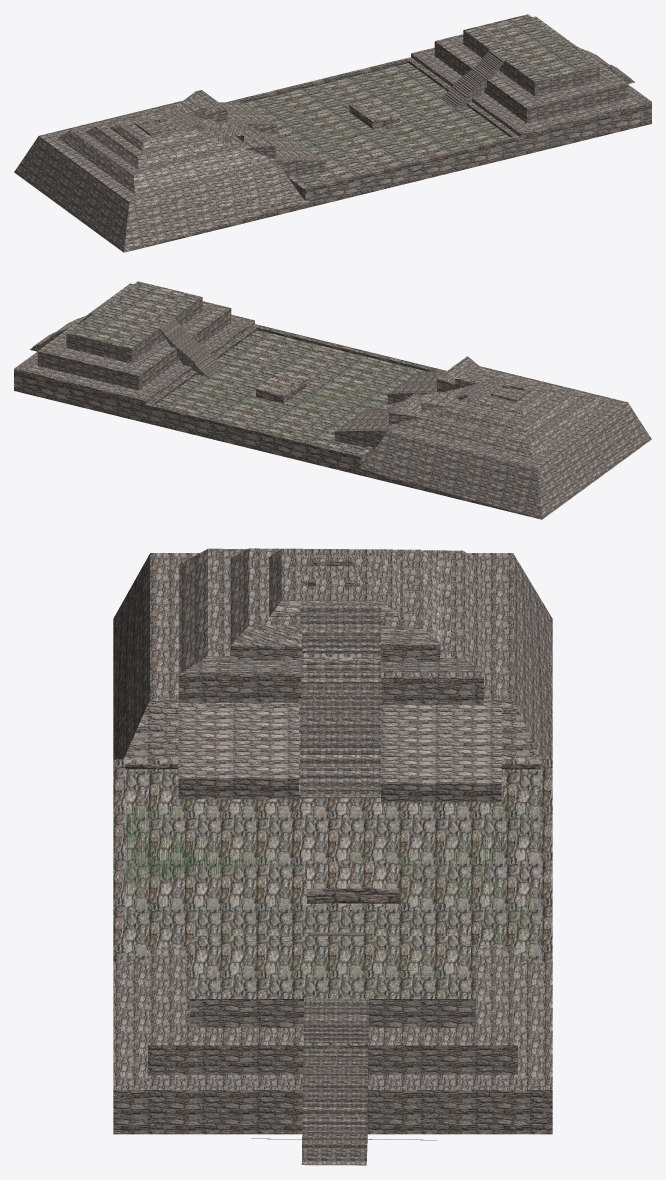
Rendered from piramide2.obj.
3 renders of one model, top to bottom at view 1: azimuth 30°, elevation 25°; view 2: azimuth 150°, elevation 25°; view 3: azimuth 270°, elevation 25°, orthographic. The views are drawn at different scales.
Parts seen in each view (by area): view 1: Mesh12 Group3 Group2 Group1 Model, Mesh5 Group11 Group10 Group9 Group3 Group2 Group1 Model, Mesh4 Group8 Group7 Group3 Group2 Group1 Model, Mesh11 Group16 Group15 Group3 Group2 Group1 Model, Mesh8 Group14 Group13 Group12 Group3 Group2 Group1 Model, Mesh1 Group6 Group5 Group4 Group3 Group2 Group1 Model; view 2: Mesh12 Group3 Group2 Group1 Model, Mesh11 Group16 Group15 Group3 Group2 Group1 Model, Mesh5 Group11 Group10 Group9 Group3 Group2 Group1 Model, Mesh4 Group8 Group7 Group3 Group2 Group1 Model, Mesh1 Group6 Group5 Group4 Group3 Group2 Group1 Model, Mesh8 Group14 Group13 Group12 Group3 Group2 Group1 Model; view 3: Mesh12 Group3 Group2 Group1 Model, Mesh8 Group14 Group13 Group12 Group3 Group2 Group1 Model, Mesh4 Group8 Group7 Group3 Group2 Group1 Model, Mesh11 Group16 Group15 Group3 Group2 Group1 Model, Mesh1 Group6 Group5 Group4 Group3 Group2 Group1 Model.
Boxes of the visible parts, x1=… form: Mesh12 Group3 Group2 Group1 Model: x1=14, y1=14, x2=651, y2=252; Mesh5 Group11 Group10 Group9 Group3 Group2 Group1 Model: x1=440, y1=51, x2=504, y2=108; Mesh4 Group8 Group7 Group3 Group2 Group1 Model: x1=266, y1=138, x2=325, y2=178; Mesh11 Group16 Group15 Group3 Group2 Group1 Model: x1=219, y1=102, x2=277, y2=134; Mesh8 Group14 Group13 Group12 Group3 Group2 Group1 Model: x1=181, y1=111, x2=279, y2=138; Mesh1 Group6 Group5 Group4 Group3 Group2 Group1 Model: x1=555, y1=34, x2=634, y2=83; Mesh12 Group3 Group2 Group1 Model: x1=14, y1=281, x2=651, y2=519; Mesh11 Group16 Group15 Group3 Group2 Group1 Model: x1=334, y1=409, x2=392, y2=449; Mesh5 Group11 Group10 Group9 Group3 Group2 Group1 Model: x1=158, y1=319, x2=223, y2=376; Mesh4 Group8 Group7 Group3 Group2 Group1 Model: x1=387, y1=371, x2=445, y2=404; Mesh1 Group6 Group5 Group4 Group3 Group2 Group1 Model: x1=30, y1=311, x2=96, y2=351; Mesh8 Group14 Group13 Group12 Group3 Group2 Group1 Model: x1=382, y1=381, x2=480, y2=408; Mesh12 Group3 Group2 Group1 Model: x1=113, y1=548, x2=552, y2=1134; Mesh8 Group14 Group13 Group12 Group3 Group2 Group1 Model: x1=300, y1=608, x2=381, y2=798; Mesh4 Group8 Group7 Group3 Group2 Group1 Model: x1=178, y1=699, x2=298, y2=799; Mesh11 Group16 Group15 Group3 Group2 Group1 Model: x1=381, y1=704, x2=501, y2=801; Mesh1 Group6 Group5 Group4 Group3 Group2 Group1 Model: x1=251, y1=1001, x2=436, y2=1165.
Size of the model in its own units: 53.05 by 6.1 by 18.04.
